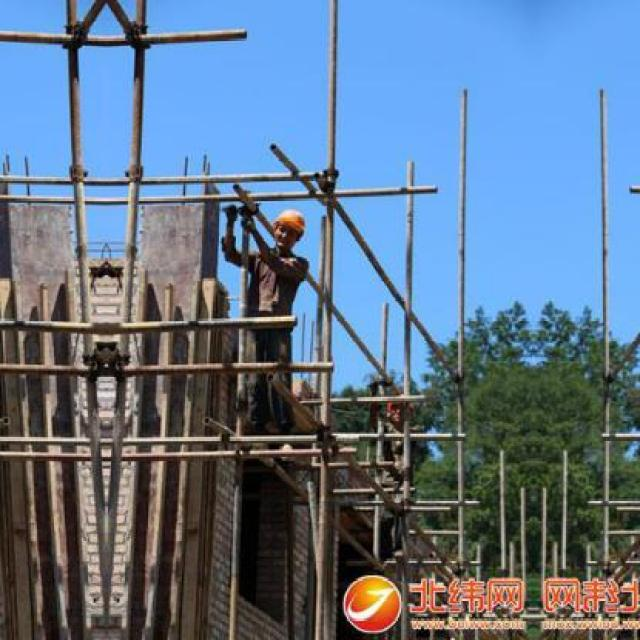helmet: (268, 204, 310, 250)
